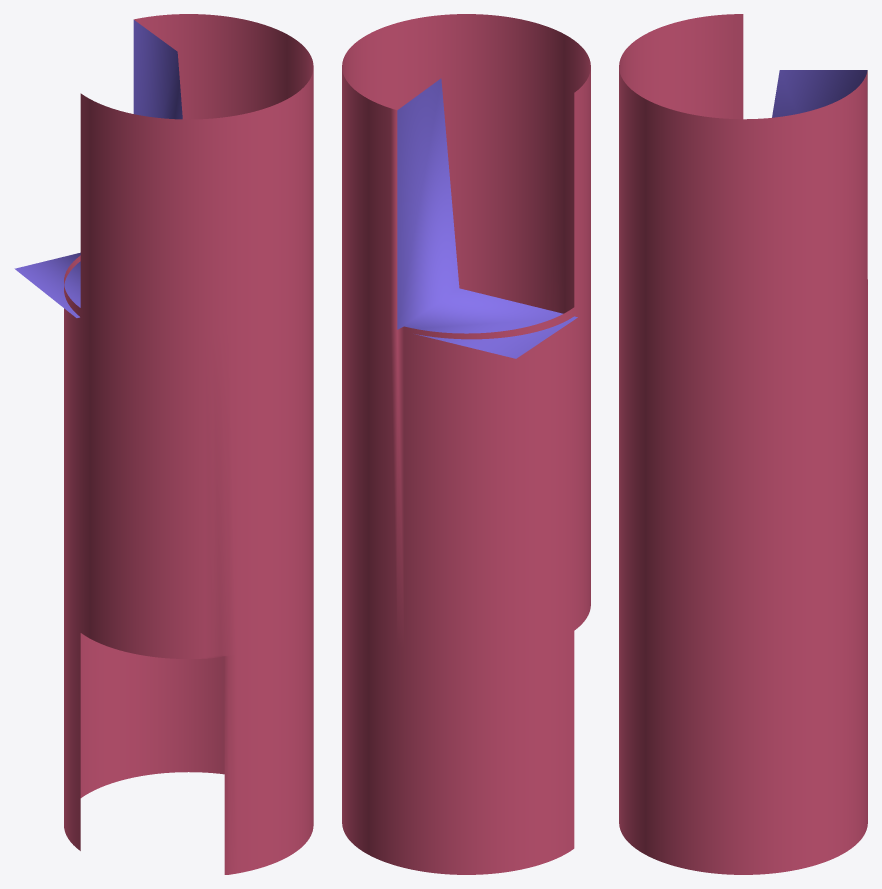
Rendered from Roundwallmapp.fbx.
The picture shows the model from 3 angles, left to right: view 1: azimuth 30°, elevation 25°; view 2: azimuth 150°, elevation 25°; view 3: azimuth 270°, elevation 25°; orthographic projection.
Visible parts, largest first — view 1: PolyShape__6_.001; view 2: PolyShape__6_.001; view 3: PolyShape__6_.001.
Part boxes in pixels (x1,y1,x2,y2): PolyShape__6_.001: [14, 14, 313, 874]; PolyShape__6_.001: [342, 14, 590, 874]; PolyShape__6_.001: [619, 14, 867, 874].
Bounding box in the file's own units: 20.37 × 67 × 20.
